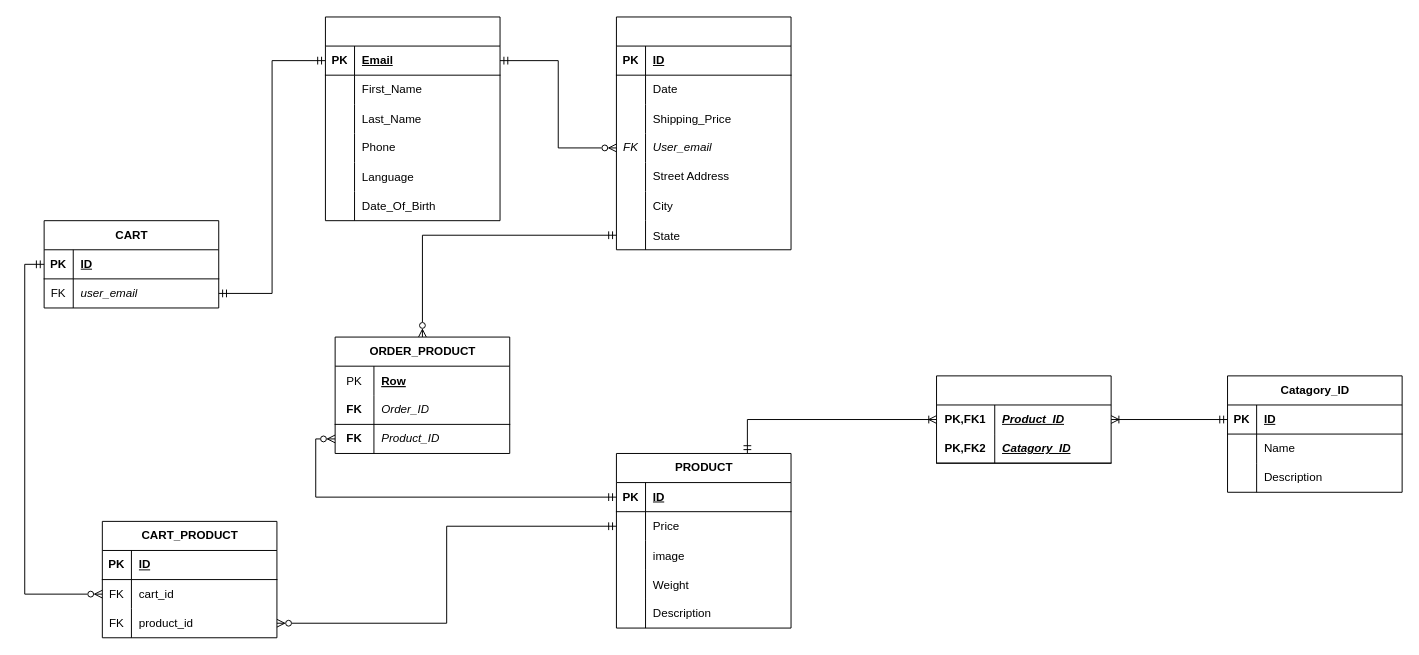
This 1419x655 diagram has some shape labels left out. The box of each missing label's shape, as (x1, y1, x2, y2) in pixels:
ORDER: (615, 16, 791, 250)
PRODUCT_CATAGORY: (936, 375, 1111, 463)
USER: (324, 16, 500, 221)
